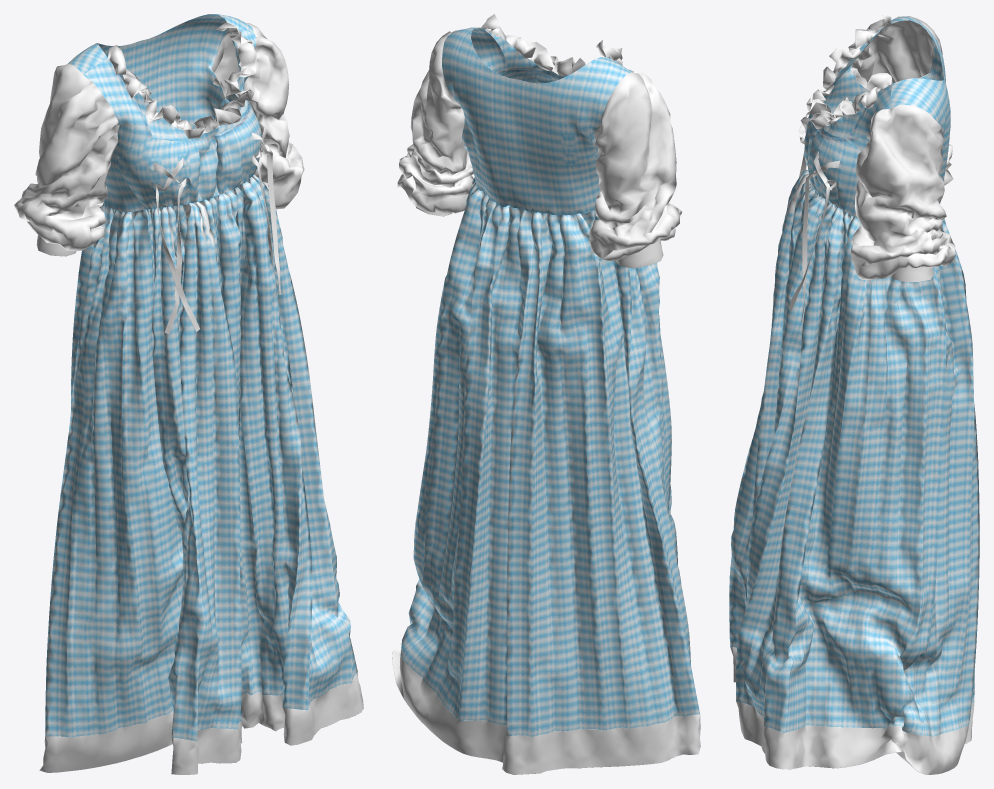
3 renders of one model, left to right at view 1: azimuth 30°, elevation 25°; view 2: azimuth 150°, elevation 25°; view 3: azimuth 270°, elevation 25°, orthographic.
Visible parts, largest first — view 1: Dirndl03; view 2: Dirndl03; view 3: Dirndl03.
Part boxes in pixels (x1,y1,x2,y2): Dirndl03: (14, 14, 363, 774); Dirndl03: (392, 14, 700, 774); Dirndl03: (729, 14, 979, 774).
Bounding box in the file's own units: 0.5739 × 1.36 × 0.4407.
2 materials, 2 textured.
